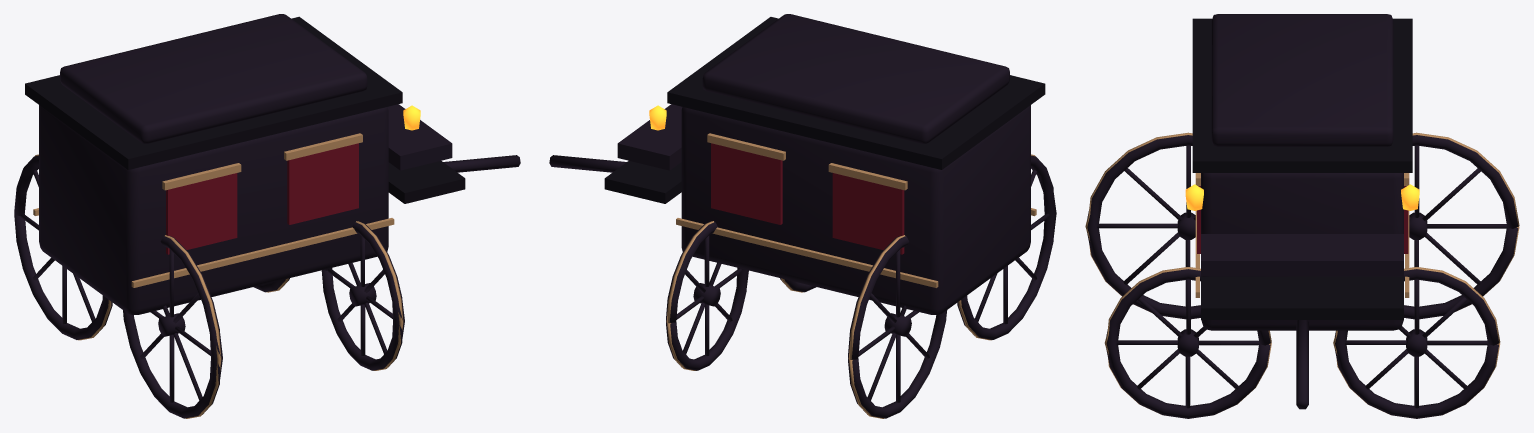
The model's file is black_carriage.glb.
The picture shows the model from 3 angles, left to right: view 1: azimuth 30°, elevation 25°; view 2: azimuth 150°, elevation 25°; view 3: azimuth 270°, elevation 25°; orthographic projection. The views are drawn at different scales.
Parts seen in each view (by area): view 1: black_carriage; view 2: black_carriage; view 3: black_carriage.
Part boxes in pixels (x1,y1,x2,y2): black_carriage: (14, 14, 520, 418); black_carriage: (549, 14, 1056, 418); black_carriage: (1085, 14, 1519, 418).
Size of the model in its own units: 2.54 by 1.54 by 2.03.
